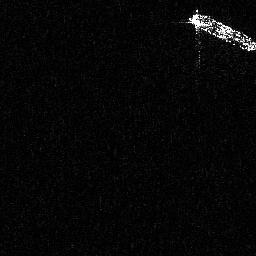ship: (175, 8, 256, 67)
